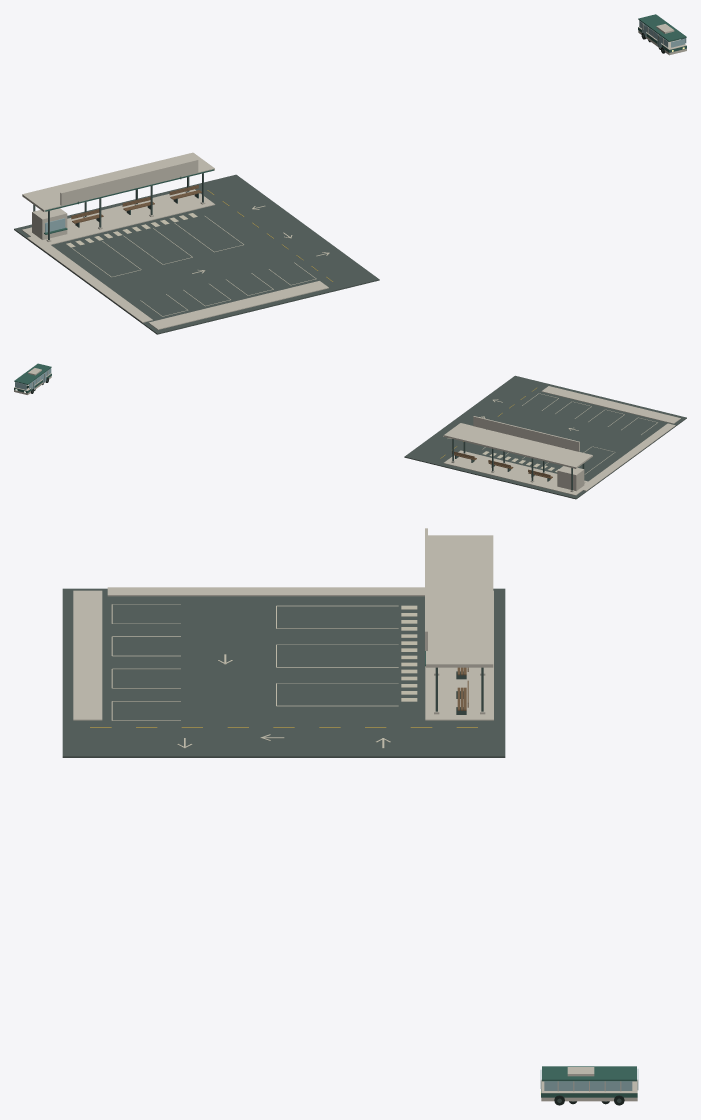
File: world_station.glb
3 renders of one model, top to bottom at view 1: azimuth 30°, elevation 25°; view 2: azimuth 150°, elevation 25°; view 3: azimuth 270°, elevation 25°, orthographic. The views are drawn at different scales.
Visible parts, largest first — view 1: Station_c0_2, Station_BusTemplate; view 2: Station_c0_2, Station_BusTemplate; view 3: Station_c0_2, Station_BusTemplate.
Part boxes in pixels (x1=…): Station_c0_2: x1=14, y1=152, x2=379, y2=334; Station_BusTemplate: x1=638, y1=14, x2=686, y2=55; Station_c0_2: x1=404, y1=375, x2=686, y2=499; Station_BusTemplate: x1=14, y1=363, x2=51, y2=394; Station_c0_2: x1=62, y1=528, x2=505, y2=757; Station_BusTemplate: x1=540, y1=1066, x2=638, y2=1105.
Bounding box in the file's own units: 80.14 × 5.64 × 37.7.
